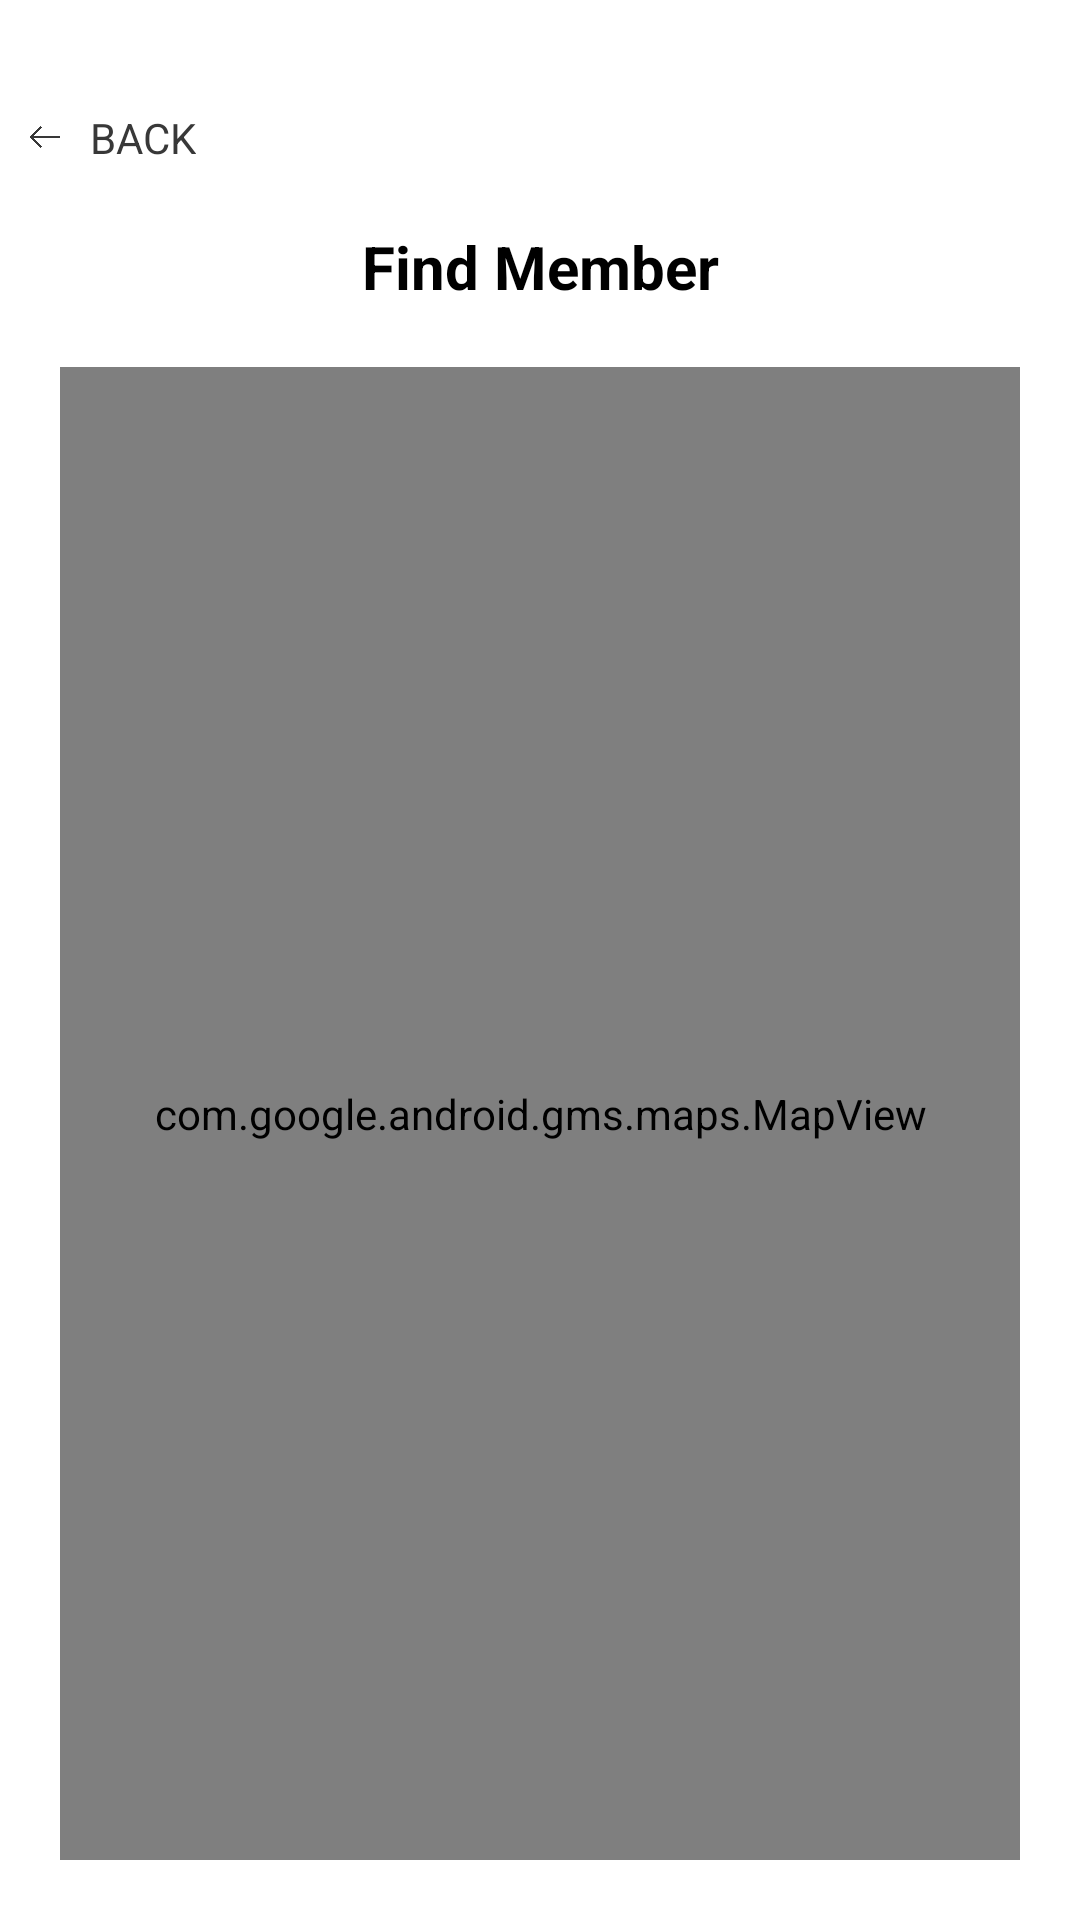

Where to tap for icons on this 1080 × 1920 app screen, as [x,y]:
left arrow: [45,137]
